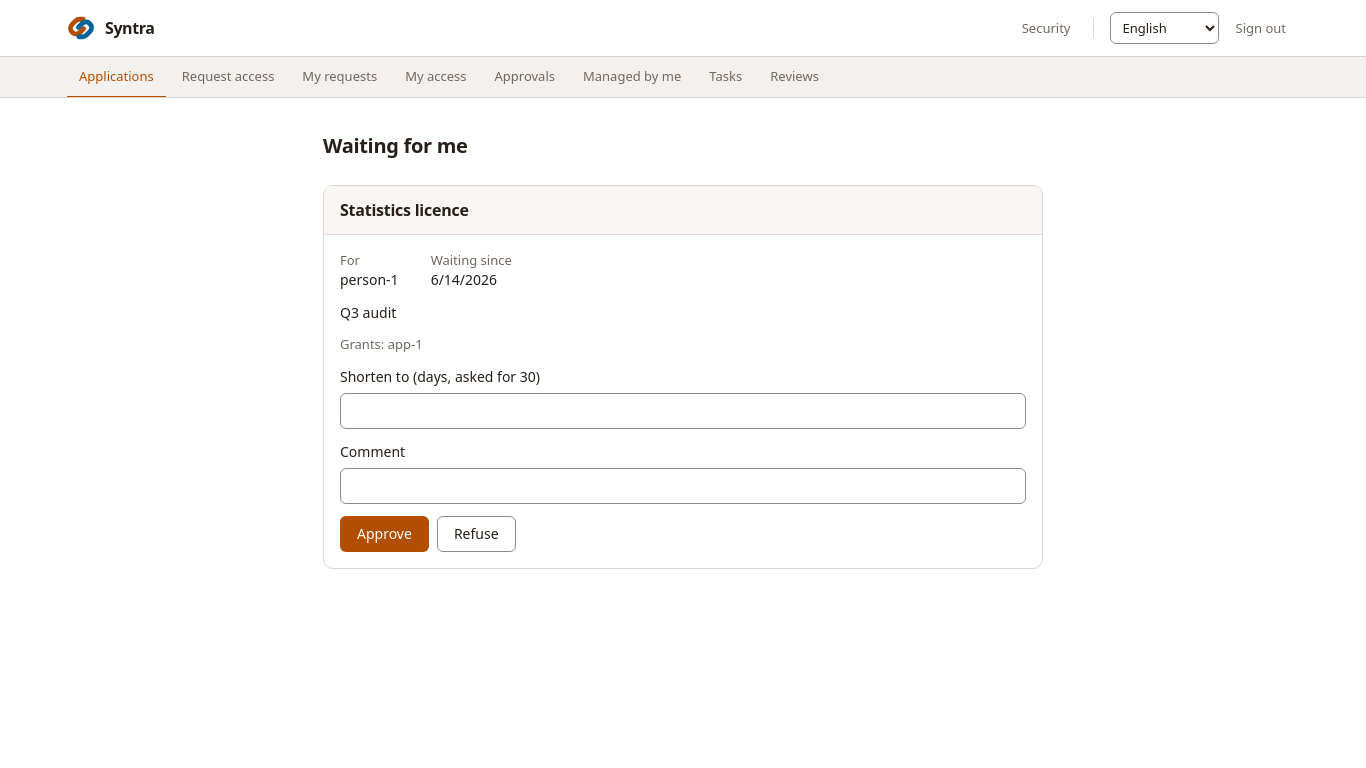
Test case: MyApprovalsPage › will not send a rejection without a comment
The width and height of the screenshot is (1366, 768).
Expected: the text "Q3 audit" is shown, [340, 303, 396, 322]
Click the button "Refuse" at coordinates (476, 534), box [437, 516, 516, 552]
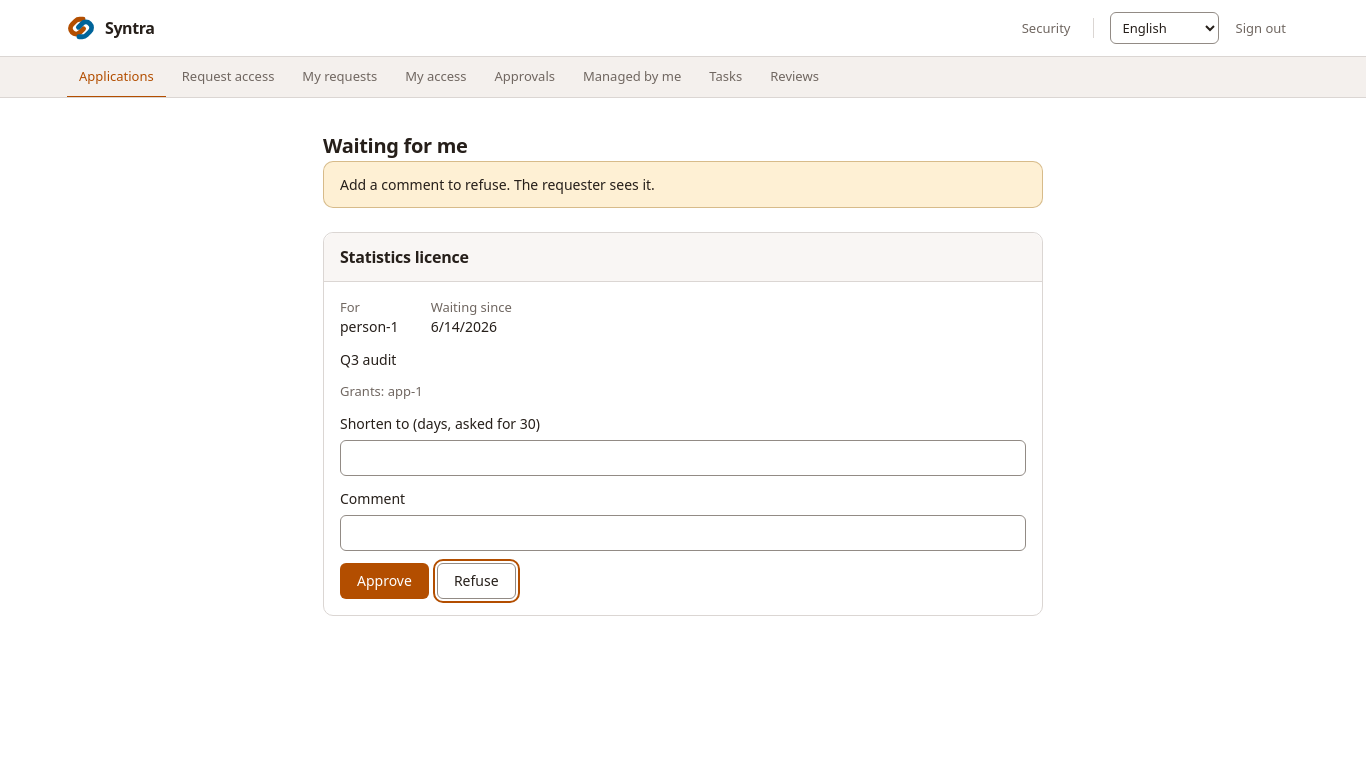
Now the text "Add a comment to refuse. The requester sees it." is shown, box [340, 175, 655, 194]
